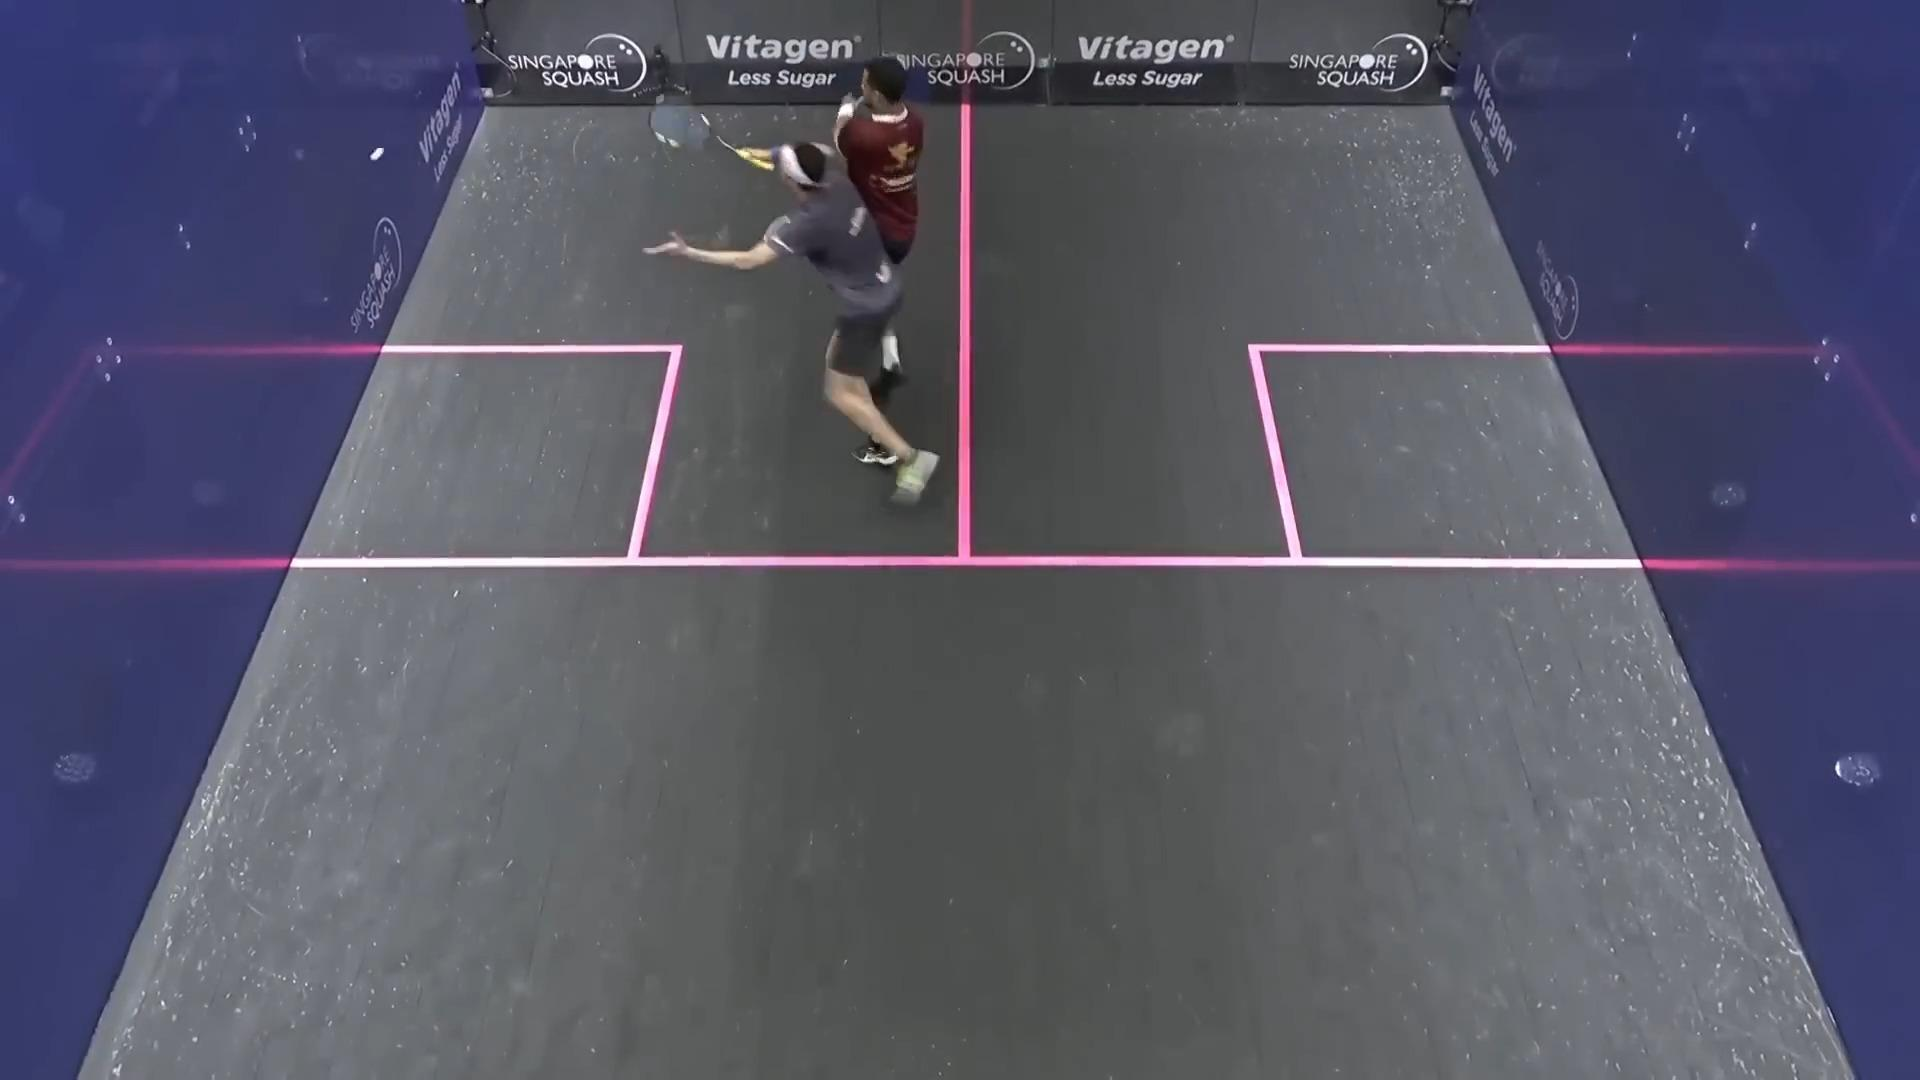Squash-Ball: (352, 124, 406, 182)
